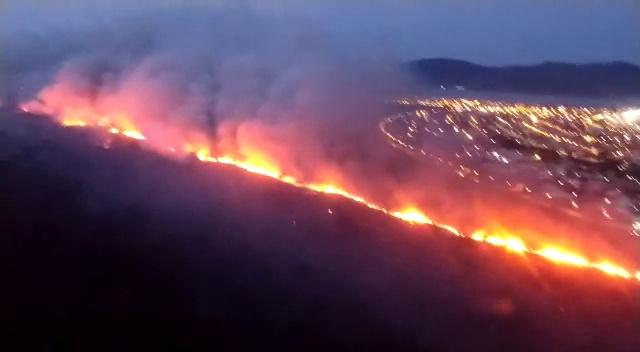fire: (535, 246, 585, 262), (485, 232, 527, 250), (245, 155, 275, 177), (305, 179, 345, 194), (393, 207, 427, 221), (194, 145, 212, 165), (119, 125, 143, 140)
